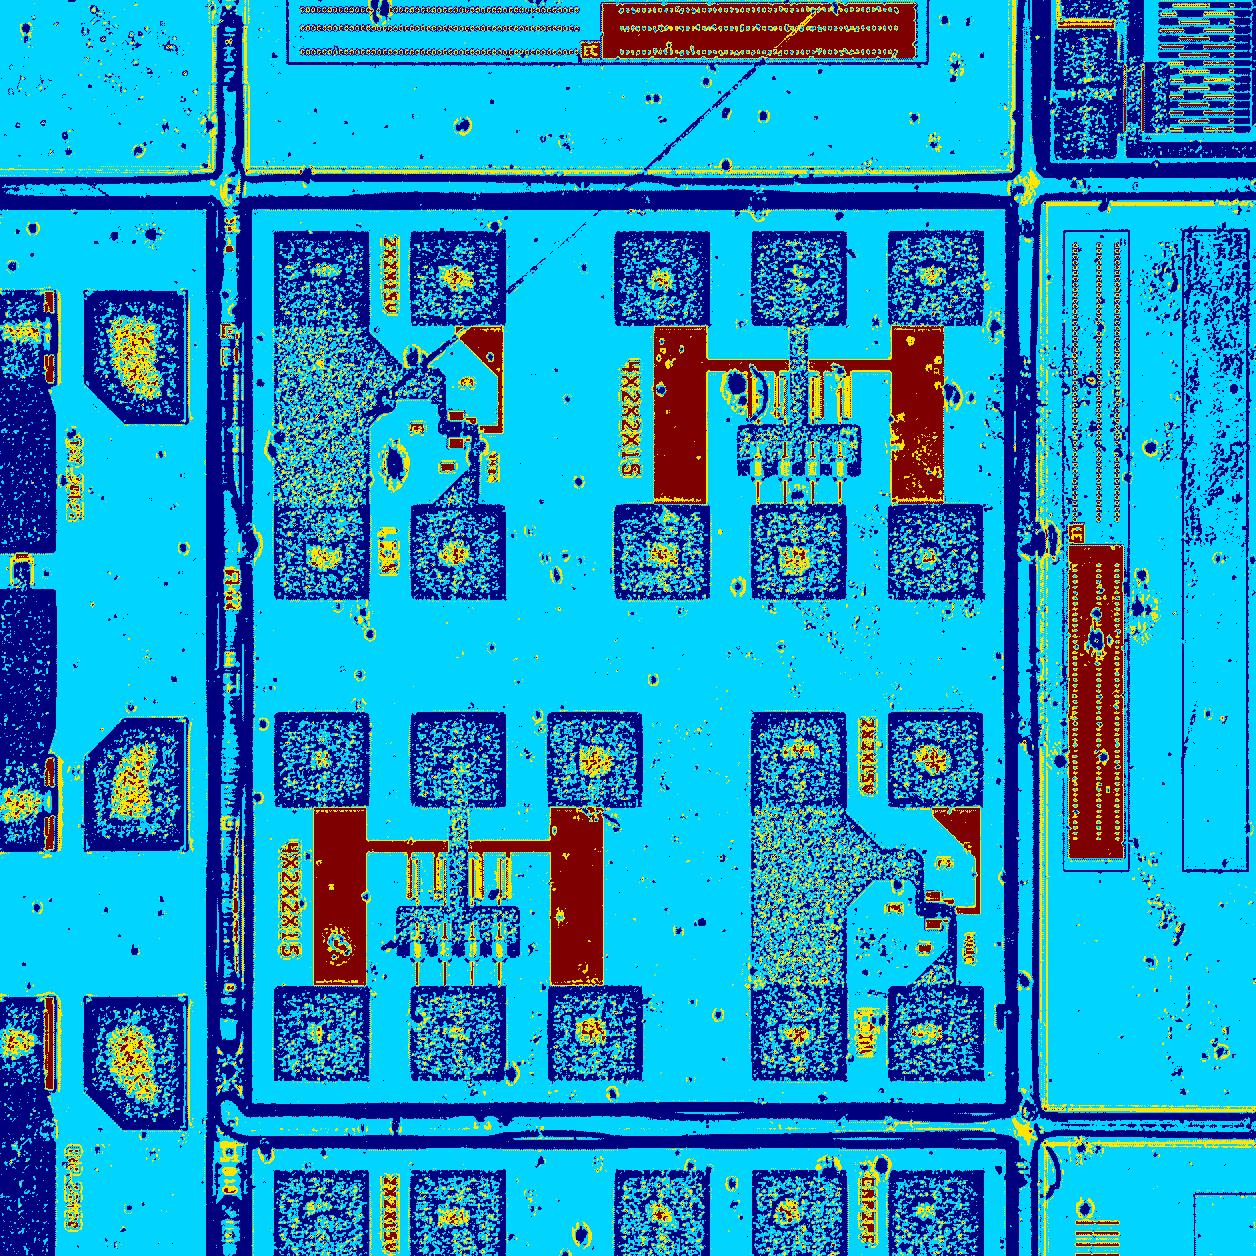Die: (237, 196, 1020, 1119)
Pad 3: (755, 990, 842, 1078), (891, 236, 979, 320), (756, 239, 842, 323), (893, 510, 979, 593), (893, 991, 979, 1075), (278, 511, 363, 595), (414, 719, 500, 802), (551, 719, 638, 801), (415, 993, 503, 1074), (415, 511, 500, 593), (278, 993, 363, 1074), (278, 238, 365, 319), (755, 513, 841, 593), (279, 720, 363, 802), (553, 994, 637, 1075), (893, 720, 978, 801), (621, 239, 704, 321), (621, 511, 704, 592), (759, 719, 840, 803), (414, 239, 497, 320)
